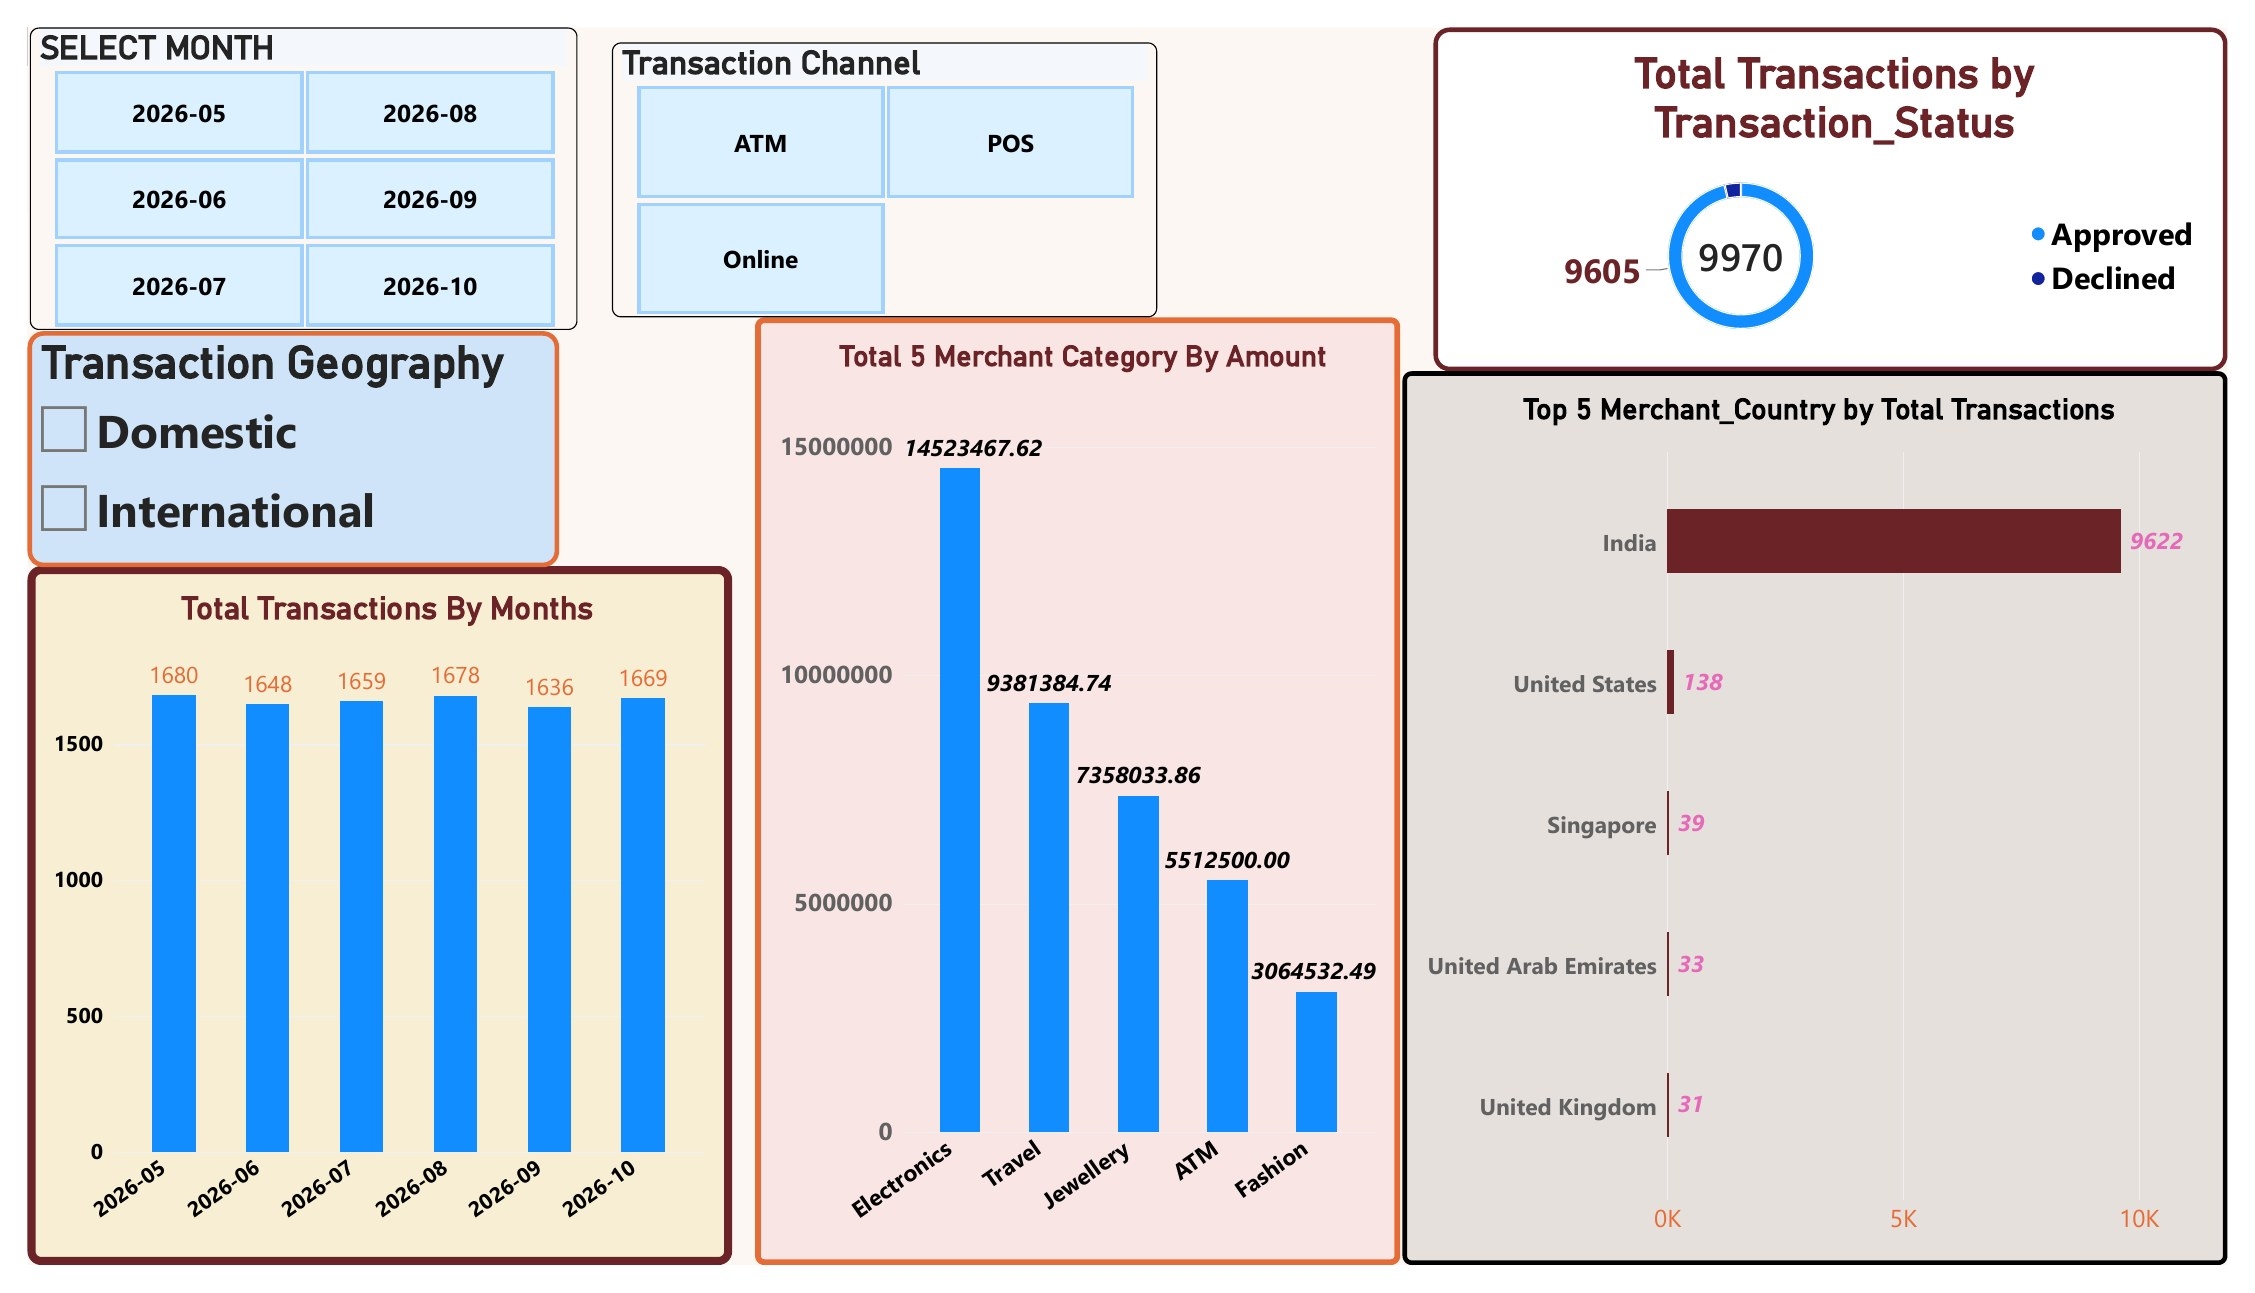

What the dashboard file says about the page in this screenshot:
{"tool":"powerbi","page":{"name":"Transaction Analysis","canvas":[1920,1080],"ordinal":1},"visuals":[{"type":"donutChart","fields":{"Category":["cc.Transaction_Status"],"Y":["cc.Total Transactions"]},"box":[1226.7,0,693.3,300],"z":0},{"type":"columnChart","title":"Total Transactions By Months","fields":{"Category":["cc.Txn_Month"],"Y":["cc.Total Transactions"]},"box":[0,470,615,610],"z":1000},{"type":"clusteredColumnChart","title":"Total 5 Merchant Category  By Amount","fields":{"Category":["cc.Merchant_Category"],"Y":["cc.Total Amount"]},"box":[635,252.5,562.5,827.5],"z":2000},{"type":"clusteredBarChart","title":"Top 5 Merchant_Country by Total Transactions","fields":{"Category":["cc.Merchant_Country"],"Y":["cc.Total Transactions"]},"box":[1200,300,720,780],"z":3000},{"type":"slicer","fields":{"Values":["cc.Txn_Month"]},"box":[2,0,478.4,264.5],"z":4000},{"type":"slicer","fields":{"Values":["cc.Transaction_Channel"]},"box":[510,12.5,475.7,240],"z":5000},{"type":"slicer","fields":{"Values":["cc.Domestic_International_Flag"]},"box":[0,265,464,206],"z":6000}]}

Visuals, with their boxes in screenshot pixels (x1, y1, x2, y2), scaled from the page's 1920x1080 canvas onto the 2255x1293 screenshot:
donutChart - cc.Transaction_Status x cc.Total Transactions: <box>1441,0,2254,359</box>
"Total Transactions By Months" columnChart: <box>0,563,722,1292</box>
"Total 5 Merchant Category  By Amount" clusteredColumnChart: <box>746,302,1406,1292</box>
"Top 5 Merchant_Country by Total Transactions" clusteredBarChart: <box>1409,359,2254,1292</box>
slicer - cc.Txn_Month: <box>2,0,564,317</box>
slicer - cc.Transaction_Channel: <box>599,15,1158,302</box>
slicer - cc.Domestic_International_Flag: <box>0,317,545,564</box>
